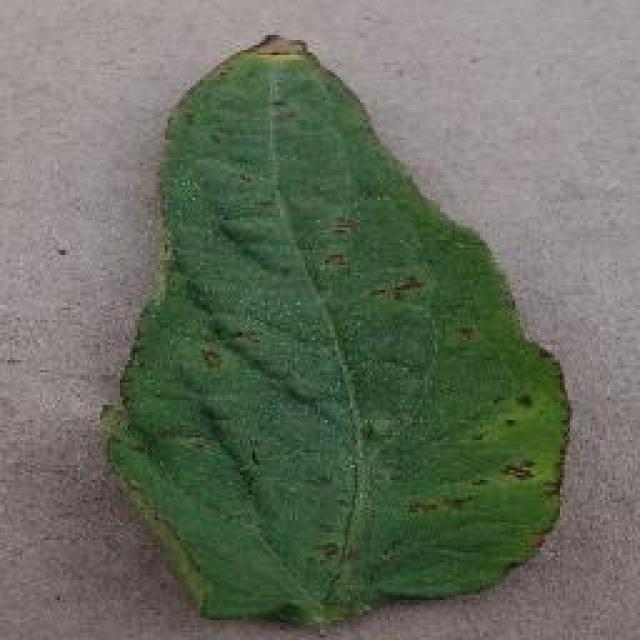Tomato___Bacterial_spot: (85, 38, 565, 637)
